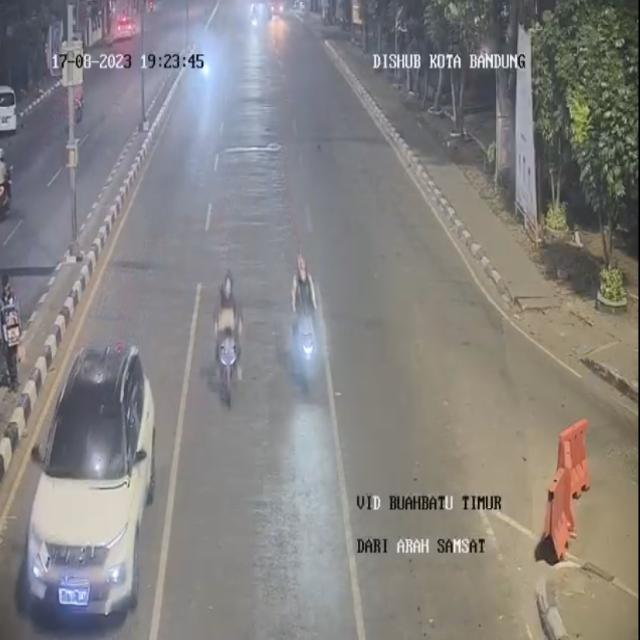cars: (23, 344, 161, 634)
motorcycle: (284, 251, 325, 404), (210, 270, 251, 409)
